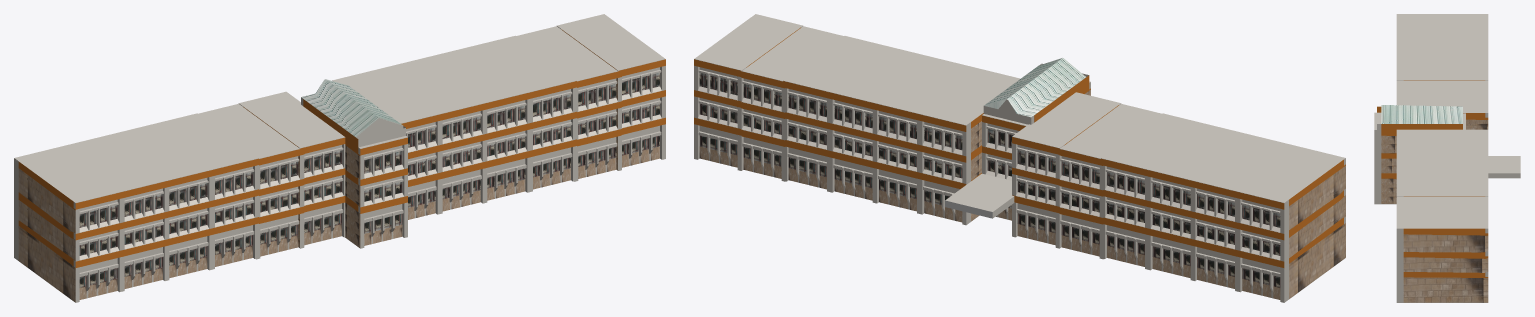
Rendered from Mechf.fbx.
The picture shows the model from 3 angles, left to right: view 1: azimuth 30°, elevation 25°; view 2: azimuth 150°, elevation 25°; view 3: azimuth 270°, elevation 25°; orthographic projection. The views are drawn at different scales.
Visible parts, largest first — view 1: box.000, box.005, box.006; view 2: box.000, box.005, box.006; view 3: box.005, box.000, box.006.
Part boxes in pixels (x1=…): box.000: x1=14, y1=91, x2=345, y2=302; box.005: x1=332, y1=14, x2=665, y2=219; box.006: x1=301, y1=79, x2=407, y2=248; box.000: x1=1012, y1=92, x2=1345, y2=302; box.005: x1=694, y1=14, x2=1020, y2=225; box.006: x1=945, y1=58, x2=1090, y2=220; box.005: x1=1396, y1=129, x2=1488, y2=302; box.000: x1=1396, y1=14, x2=1488, y2=129; box.006: x1=1374, y1=105, x2=1520, y2=204.
Bounding box in the file's own units: 4957 × 977 × 1430.
